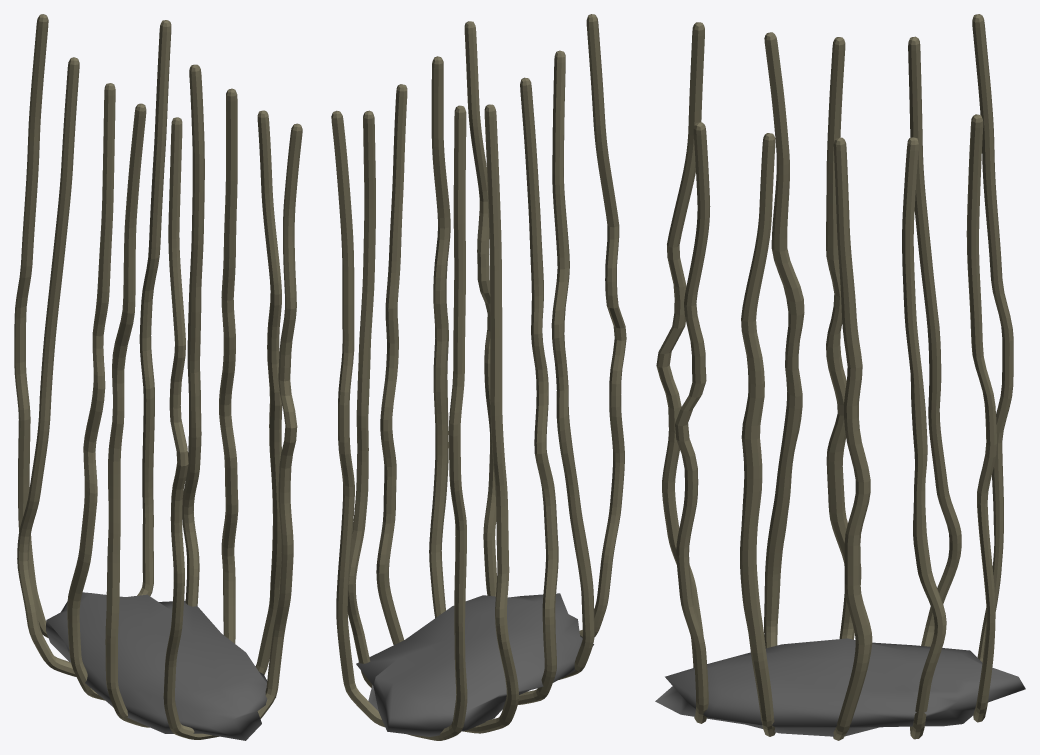
Rendered from floting_stone_4.fbx.
3 views of the same model, side by side, from view 1: azimuth 30°, elevation 25°; view 2: azimuth 150°, elevation 25°; view 3: azimuth 270°, elevation 25° (orthographic). The views are drawn at different scales.
Visible parts, largest first — view 1: Cube.004; view 2: Cube.004; view 3: Cube.004.
Boxes of the visible parts, x1,y1,x2,y2 form: Cube.004: (14, 14, 302, 740); Cube.004: (331, 14, 626, 740); Cube.004: (655, 14, 1025, 740).
Bounding box in the file's own units: 71.34 × 255 × 125.
